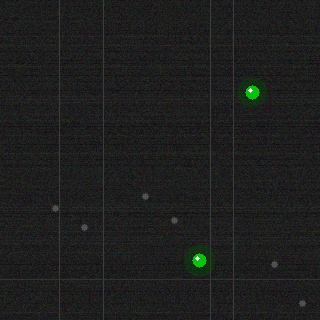green_normal: (190, 251, 208, 269), (243, 83, 261, 101)
